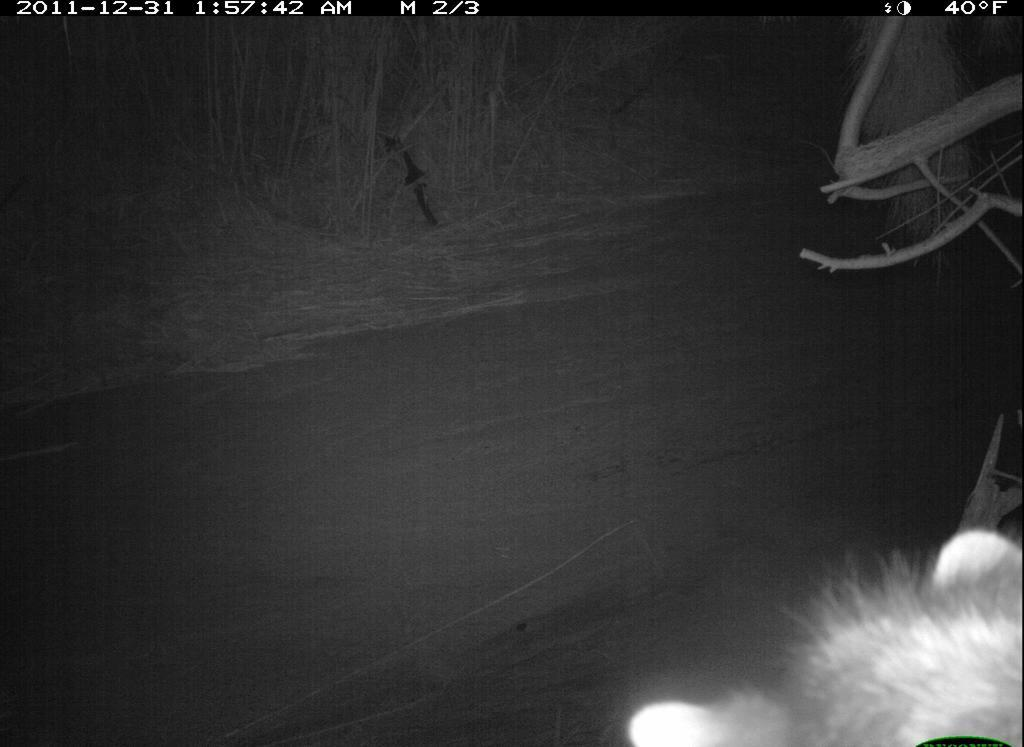raccoon: (589, 521, 1023, 747)
